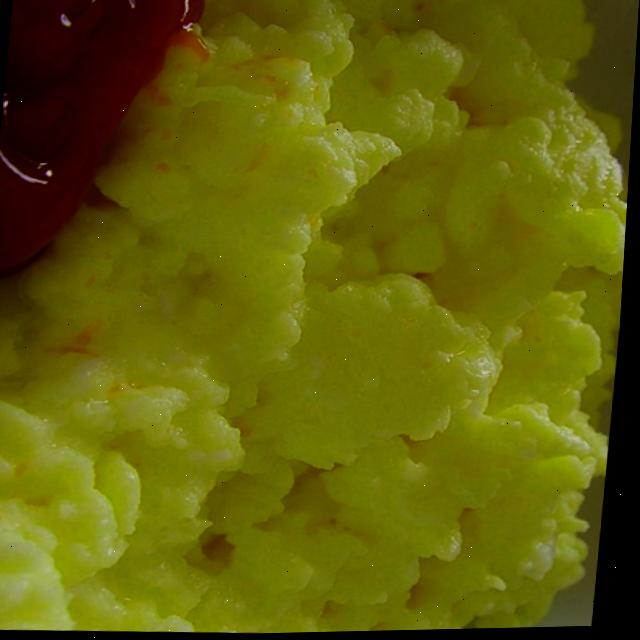鸡蛋料理: (4, 0, 640, 639)
